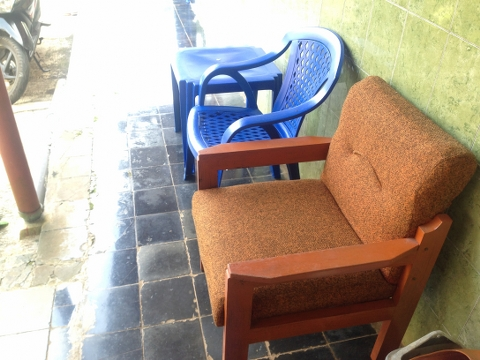kursi: (192, 75, 478, 360), (185, 26, 345, 188)
meja: (169, 47, 281, 138)
